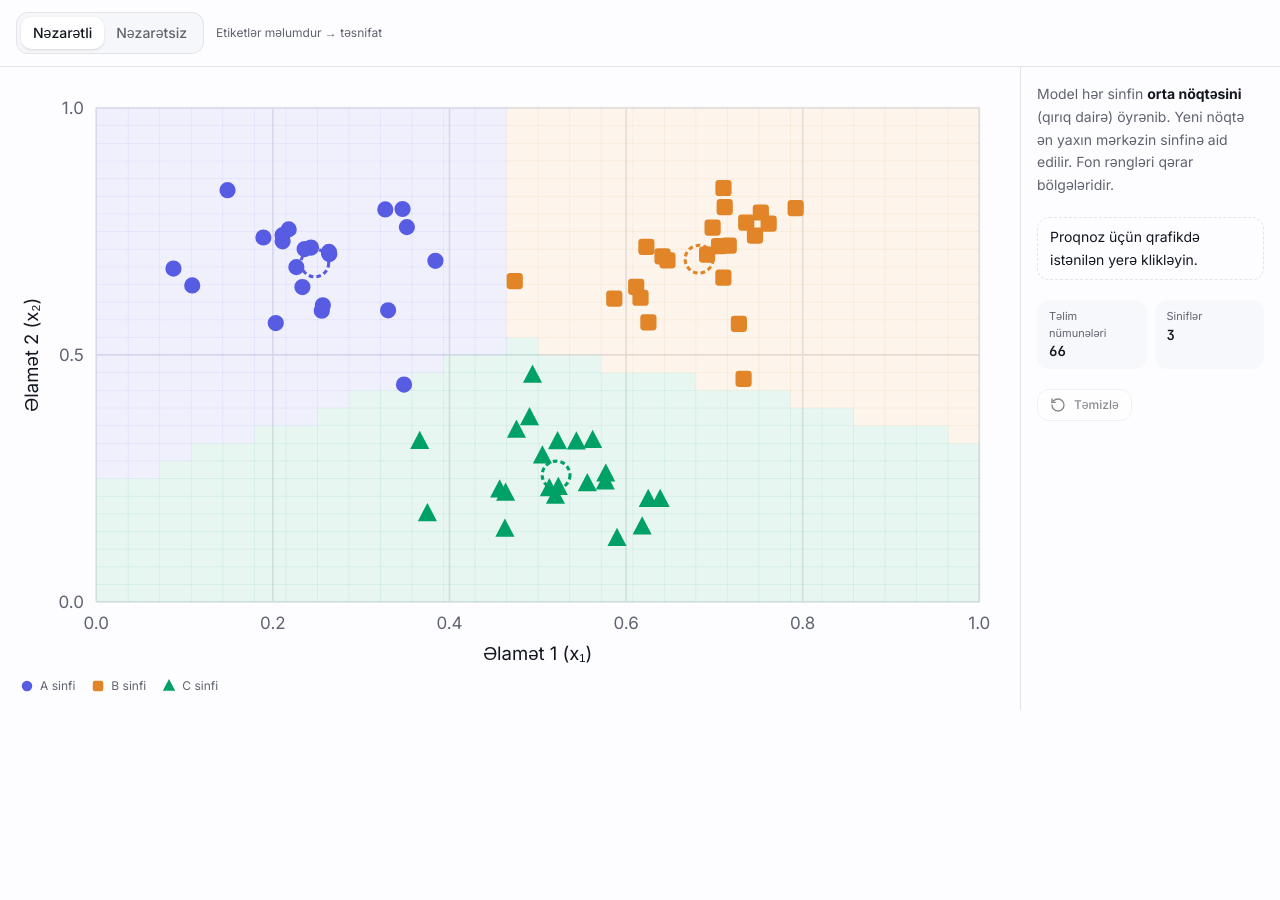
Test: interactive demos (smoke) › supervision-types: switches to unsupervised and runs k-means until convergence
What coordinates should you click on to do the following:
click the radio button labelled "Nəzarətsiz"
I would click on:
 (152, 33)
Its box is 104,17 -> 199,49.
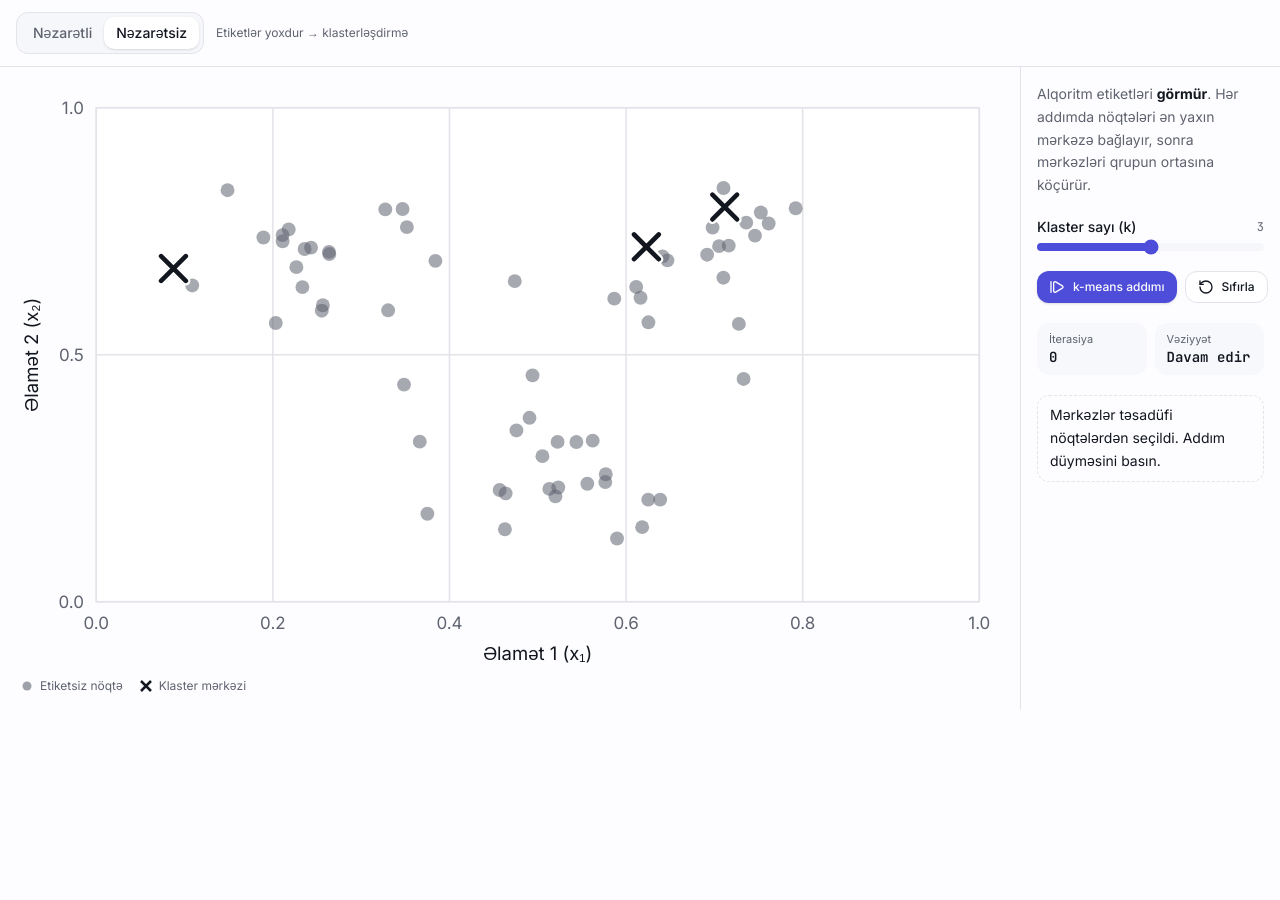
What coordinates should you click on to do the following:
click the button "k-means addımı"
I would click on:
 (1107, 287)
Its box is 1037,271 -> 1176,303.
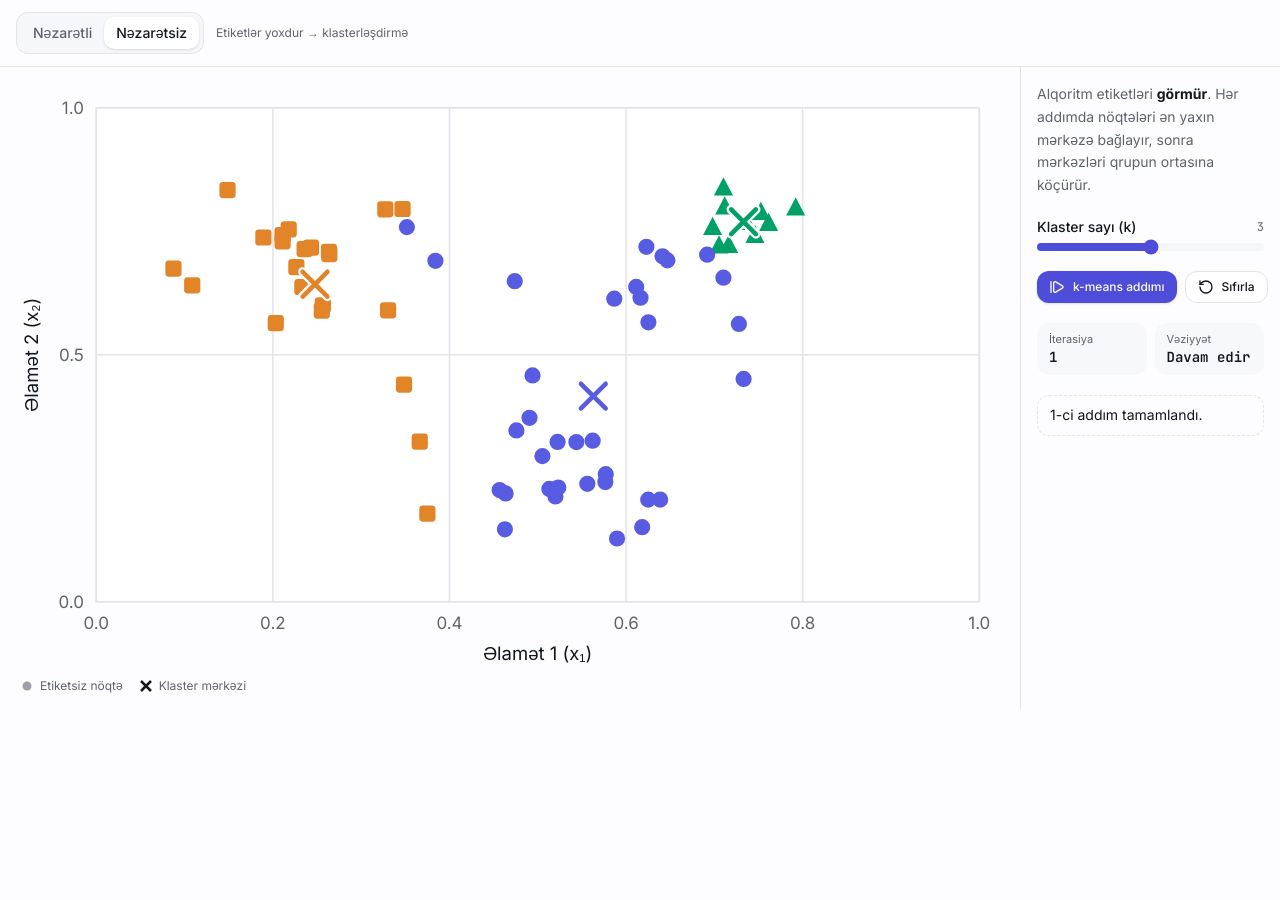
What coordinates should you click on to do the following:
click the button "k-means addımı"
I would click on:
 (1107, 287)
Its box is 1037,271 -> 1176,303.
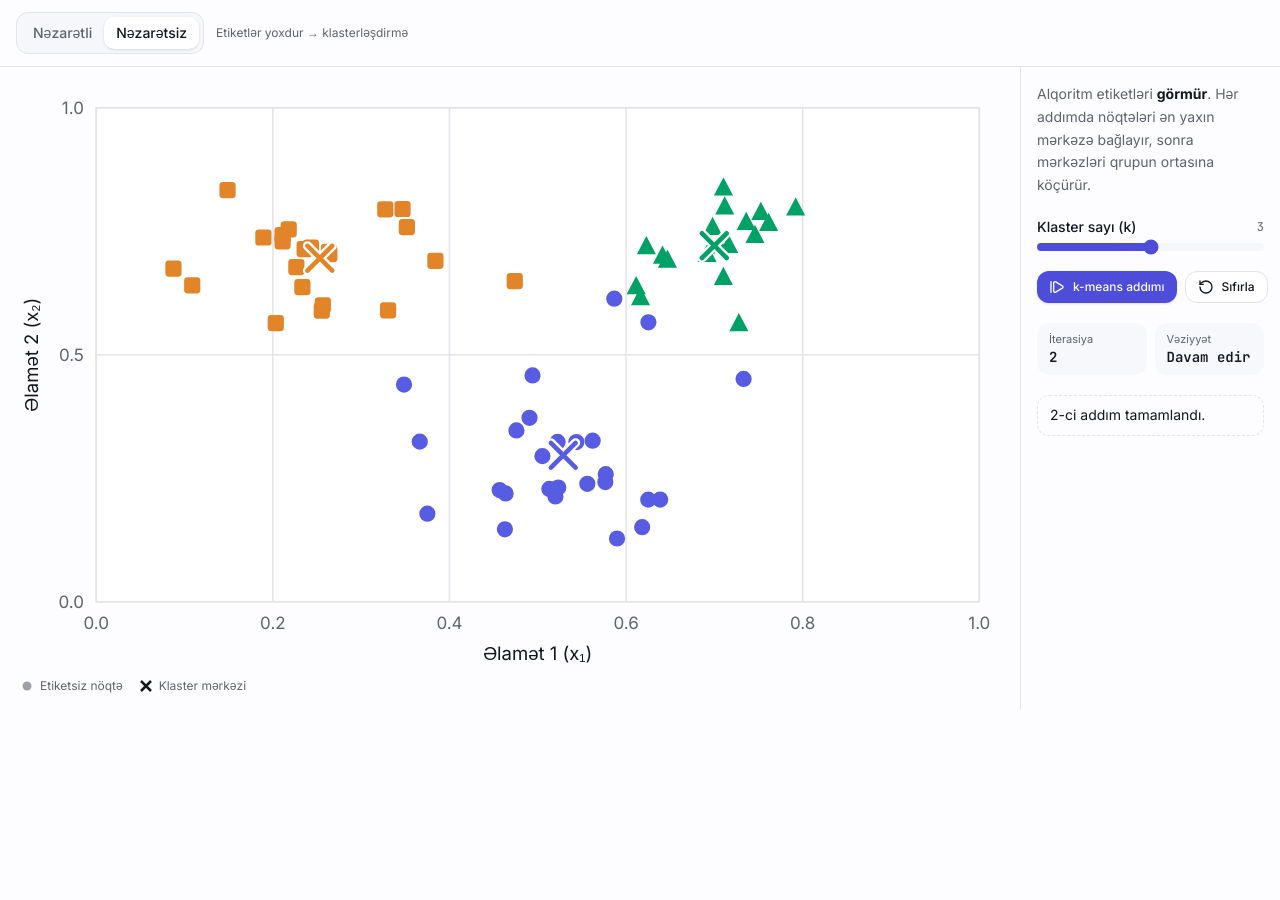
What coordinates should you click on to do the following:
click the button "k-means addımı"
I would click on:
 (1107, 287)
Its box is 1037,271 -> 1176,303.
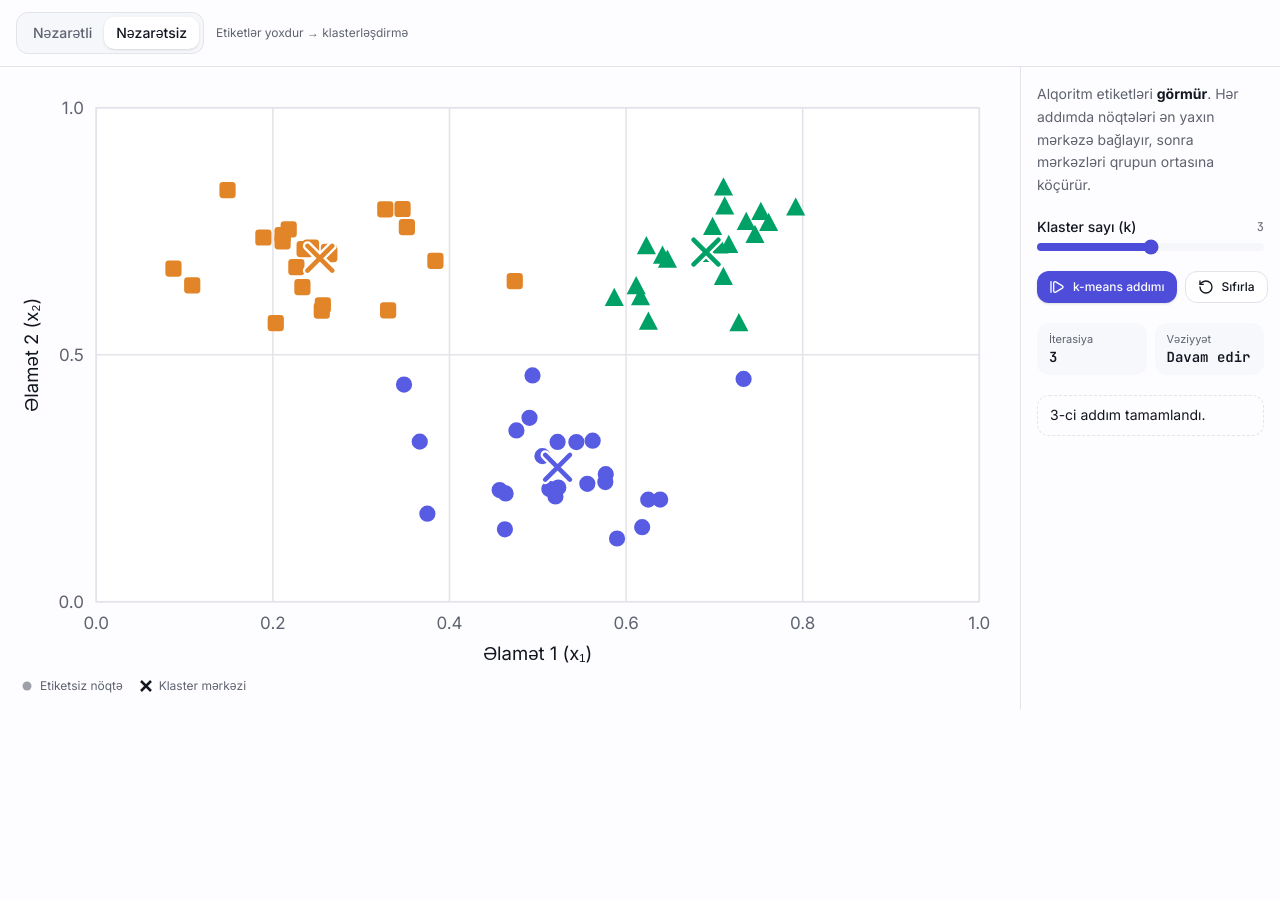
What coordinates should you click on to do the following:
click the button "k-means addımı"
I would click on:
 (1107, 287)
Its box is 1037,271 -> 1176,303.
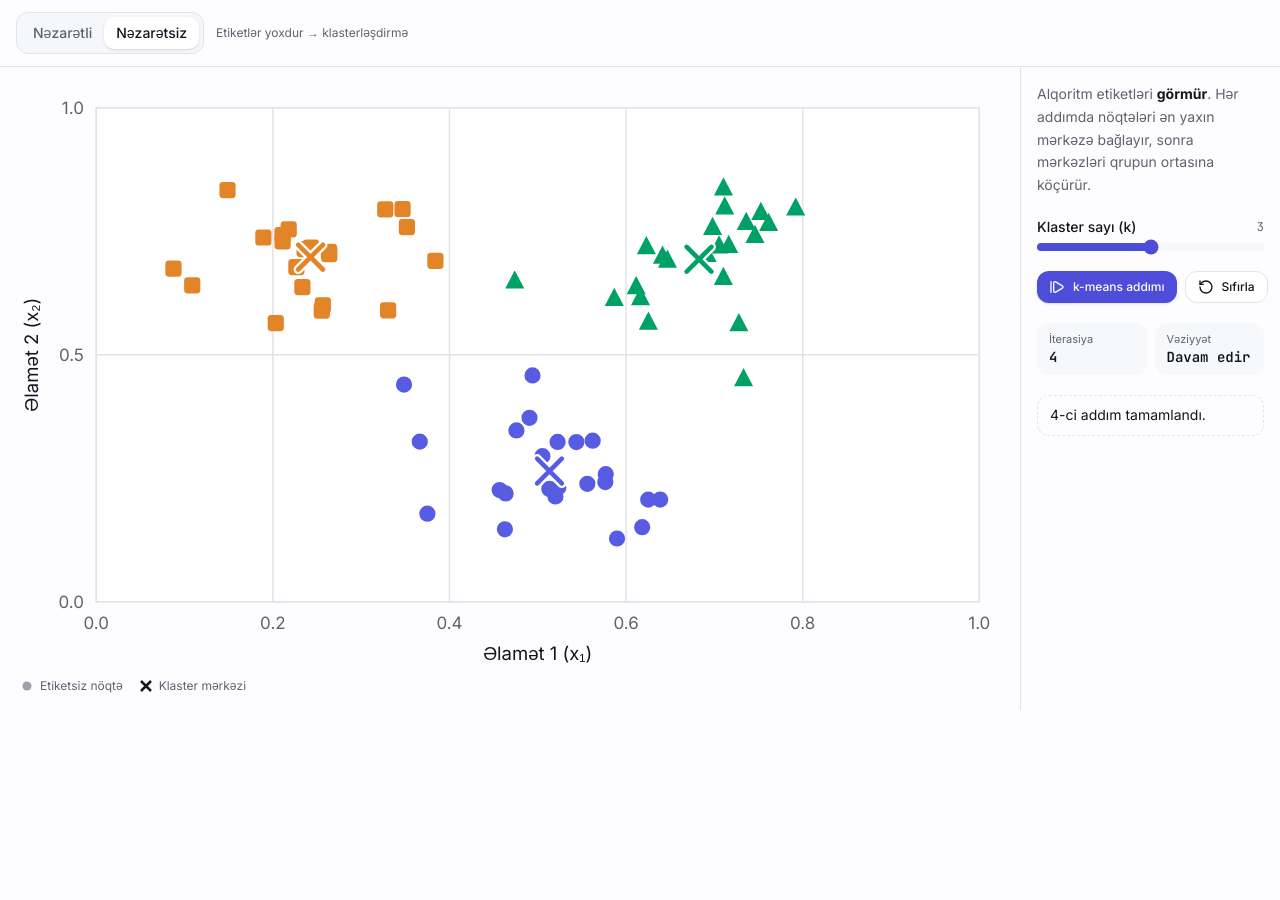
What coordinates should you click on to do the following:
click the button "k-means addımı"
I would click on:
 (1107, 287)
Its box is 1037,271 -> 1176,303.
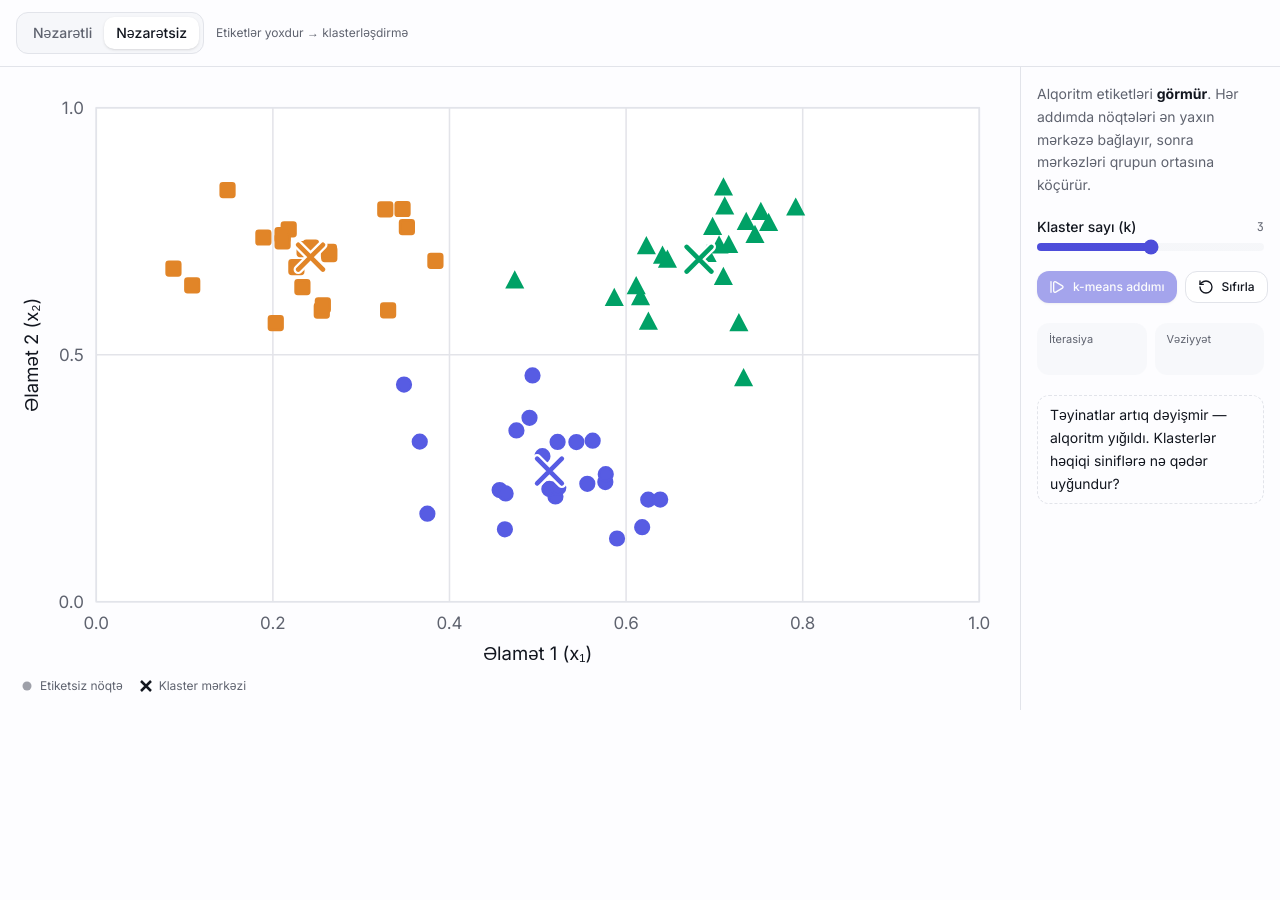
Now the text "Yığıldı ✓" is shown, box 1166,347 -> 1252,367
